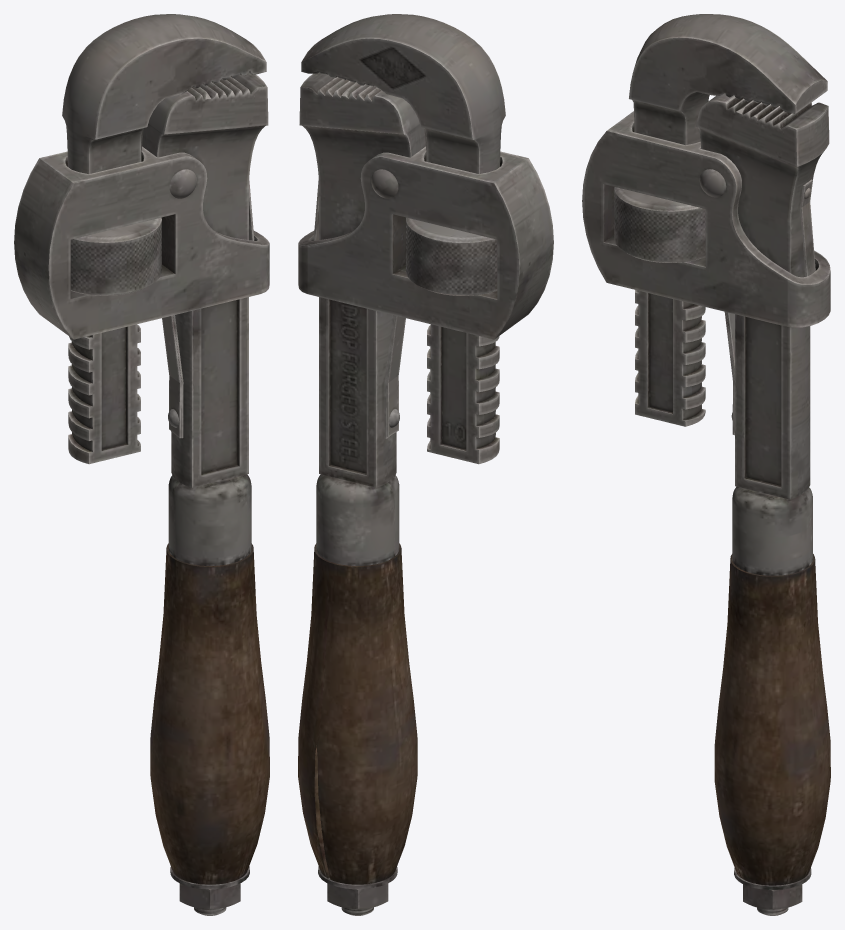
Rendered from adjustable_wrench.glb.
3 views of the same model, side by side, from view 1: azimuth 30°, elevation 25°; view 2: azimuth 150°, elevation 25°; view 3: azimuth 330°, elevation 25° (orthographic). The views are drawn at different scales.
Visible parts, largest first — view 1: adjustable_wrench_jaw; view 2: adjustable_wrench_jaw; view 3: adjustable_wrench_jaw.
Part boxes in pixels (bbox=[...]): adjustable_wrench_jaw: bbox=[14, 14, 269, 915]; adjustable_wrench_jaw: bbox=[298, 14, 553, 915]; adjustable_wrench_jaw: bbox=[582, 14, 830, 915].
Bounding box in the file's own units: 0.0683 × 0.2541 × 0.0306.
Materials: 1 (1 with a texture image).
